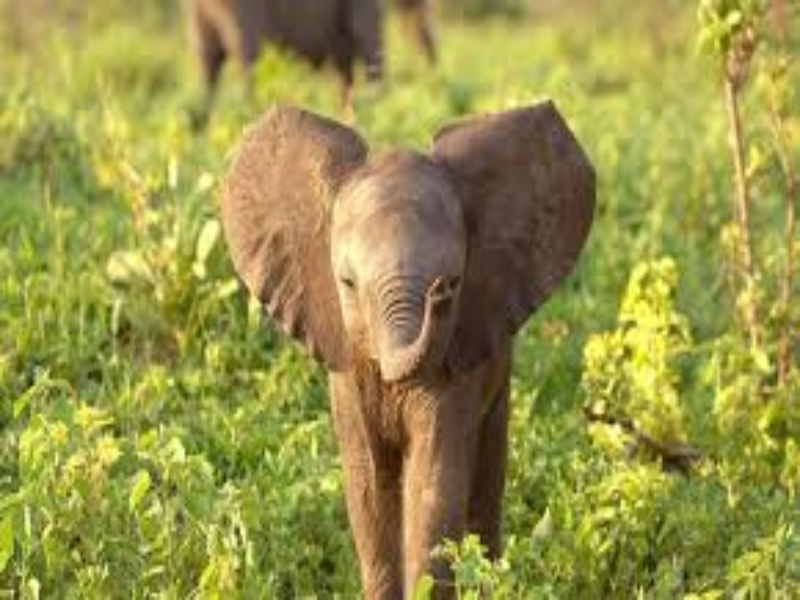elephant: (209, 99, 599, 592)
